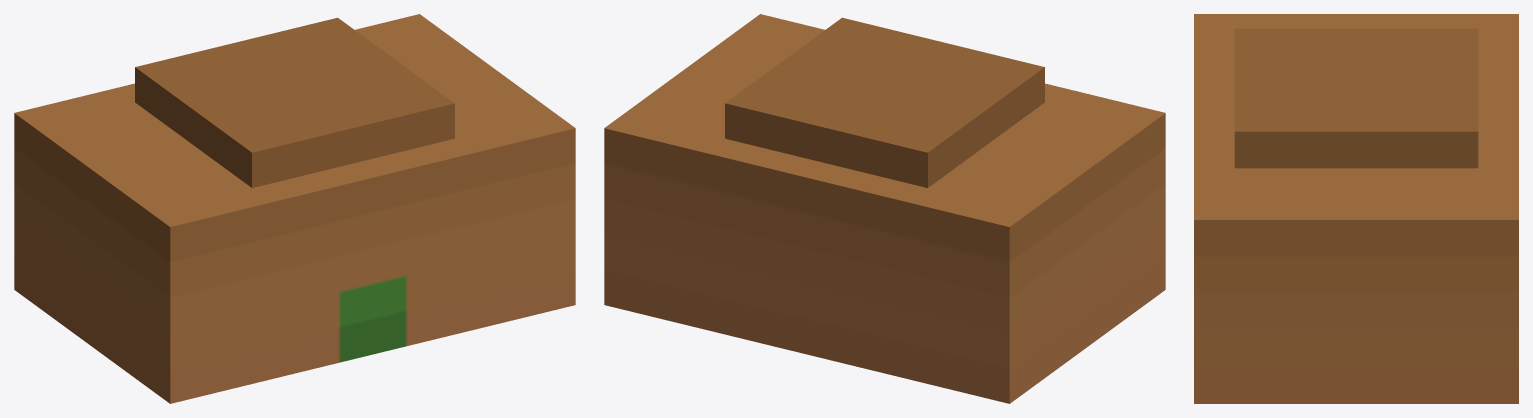
Rendered from Chest060.fbx.
3 renders of one model, left to right at view 1: azimuth 30°, elevation 25°; view 2: azimuth 150°, elevation 25°; view 3: azimuth 270°, elevation 25°, orthographic. The views are drawn at different scales.
Visible parts, largest first — view 1: Chest060; view 2: Chest060; view 3: Chest060.
Part boxes in pixels (x1,y1,x2,y2): Chest060: [14, 14, 575, 403]; Chest060: [604, 14, 1165, 403]; Chest060: [1194, 14, 1518, 403].
Size of the model in its own units: 12 by 6 by 8.
